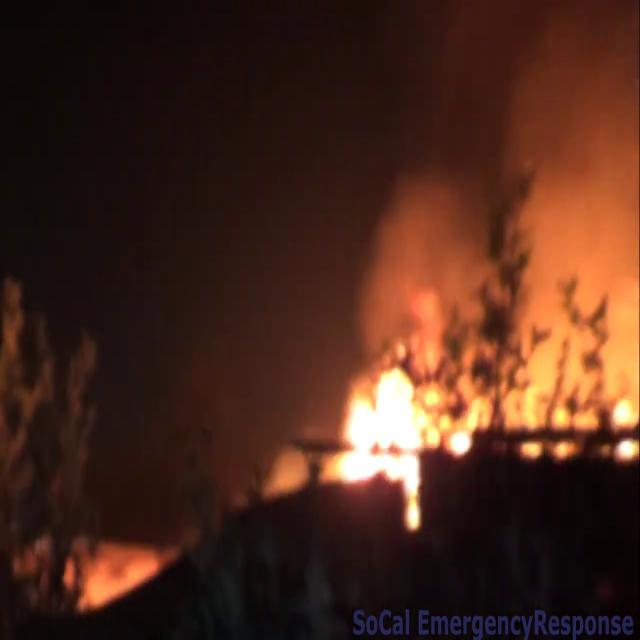Fire: (314, 337, 464, 517)
Smoke: (368, 1, 640, 356)
